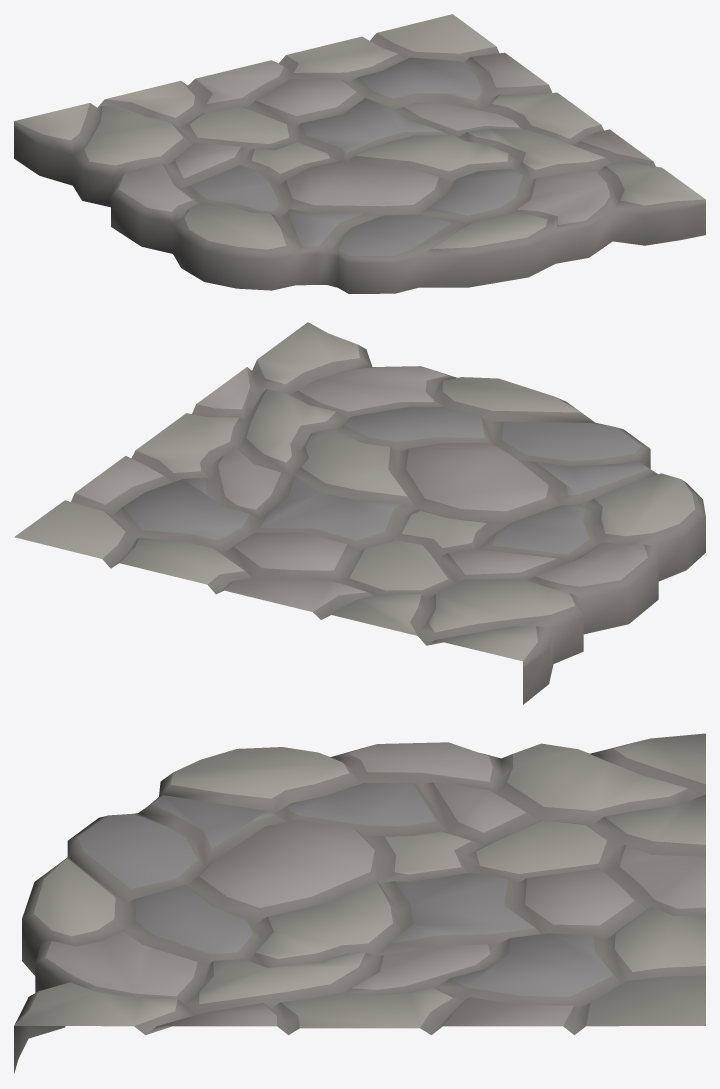
File: rpgpp_ag_floor_03a_3x3_ext_02_left.fbx
The picture shows the model from 3 angles, top to bottom: view 1: azimuth 30°, elevation 25°; view 2: azimuth 150°, elevation 25°; view 3: azimuth 270°, elevation 25°; orthographic projection. The views are drawn at different scales.
Parts seen in each view (by area): view 1: rpgpp_ag_floor_03a_3x3_ext_02_left; view 2: rpgpp_ag_floor_03a_3x3_ext_02_left; view 3: rpgpp_ag_floor_03a_3x3_ext_02_left.
Part boxes in pixels (<box>): rpgpp_ag_floor_03a_3x3_ext_02_left: <box>14,14,705,293</box>; rpgpp_ag_floor_03a_3x3_ext_02_left: <box>14,322,705,704</box>; rpgpp_ag_floor_03a_3x3_ext_02_left: <box>14,733,705,1073</box>.
Bounding box in the file's own units: 3 × 0.245 × 3.
